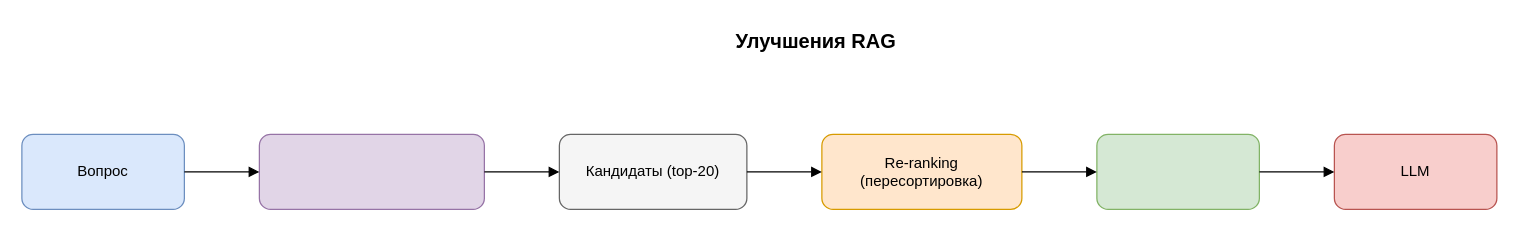
The diagram is 1519 pixels wide and 231 high, and some of its shapes have lost their labels. The shapes that lost their labels are listed below. From the top down, each one's box as (x1, y1, x2, y2) in pixels, then its label:
(258, 133, 484, 209): Гибридный поиск (вектор + ключевые слова)
(1096, 133, 1259, 209): top-4
